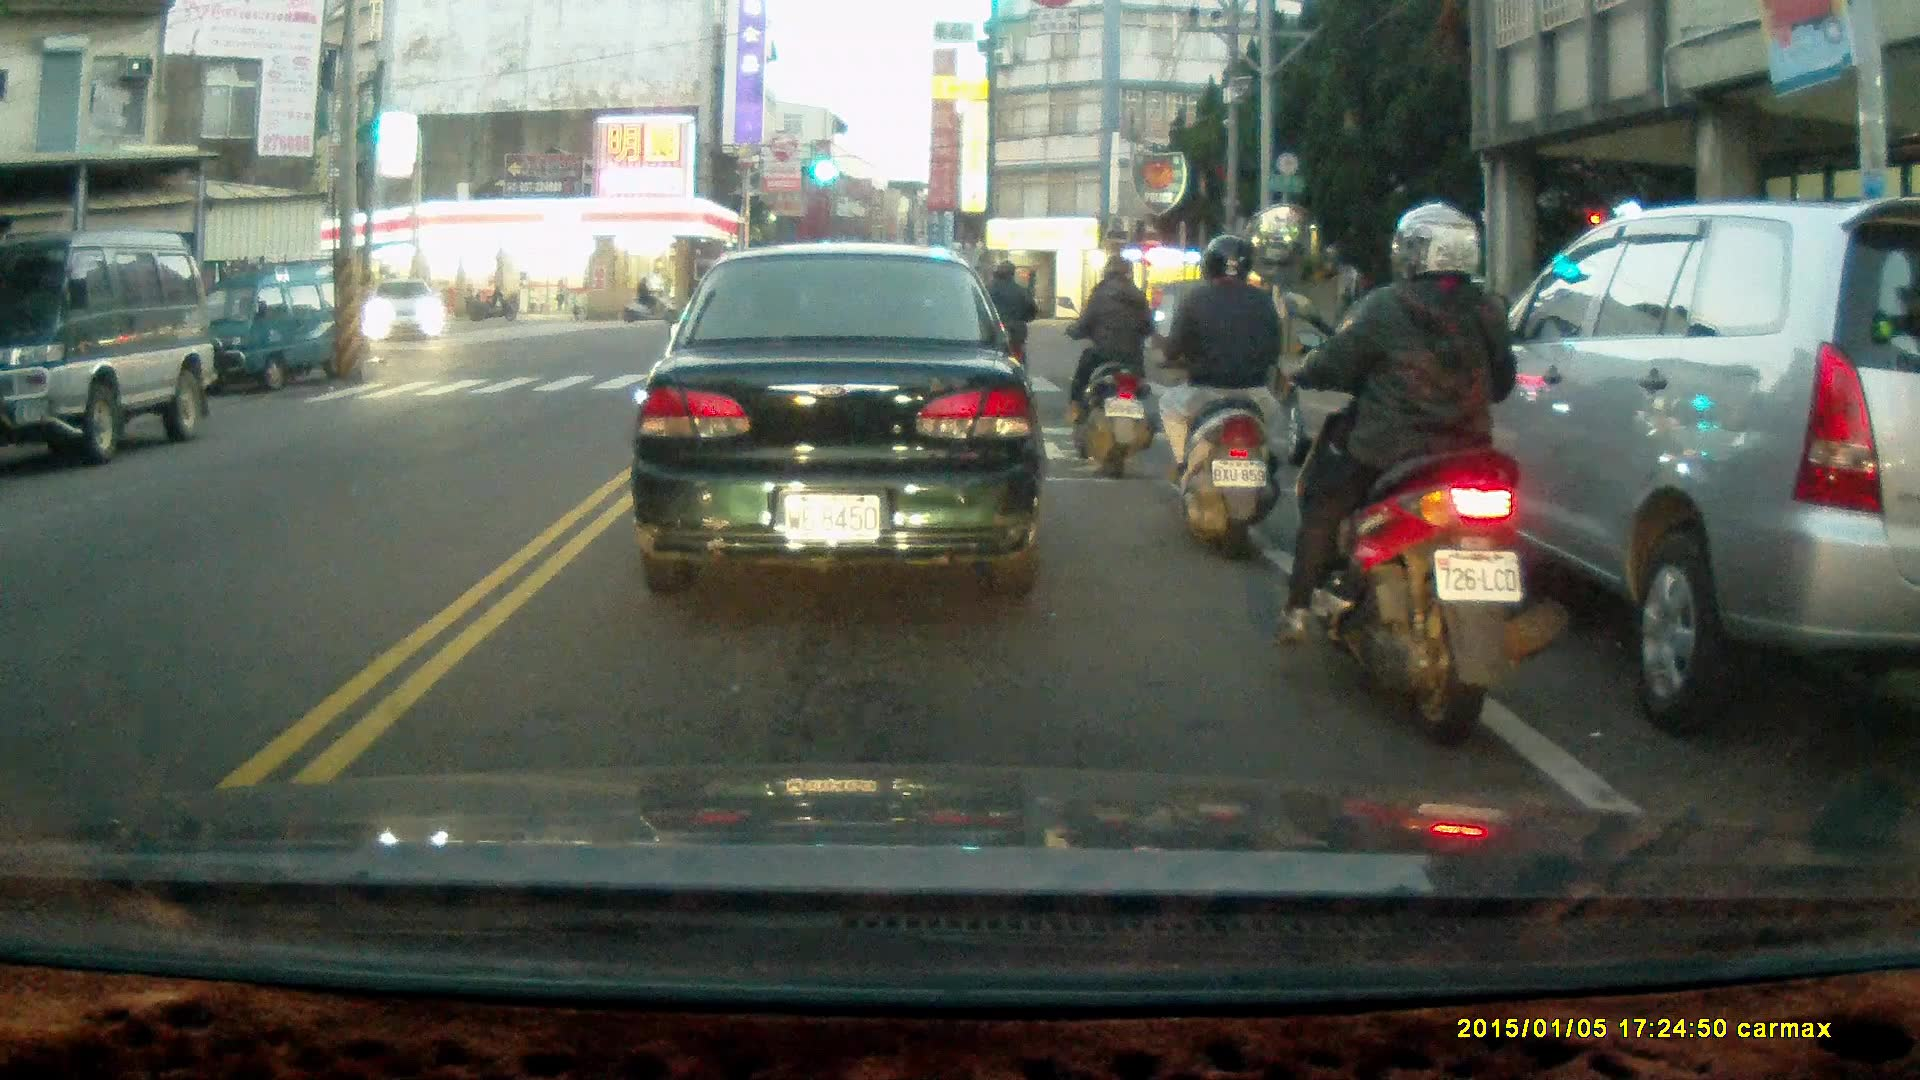rider: (1275, 202, 1548, 740), (1123, 228, 1283, 549), (1062, 258, 1158, 482), (975, 260, 1038, 405), (618, 279, 670, 324)
vehicle: (1402, 195, 1920, 737), (631, 240, 1047, 600), (1, 234, 212, 458), (181, 262, 362, 399), (369, 278, 449, 344)
